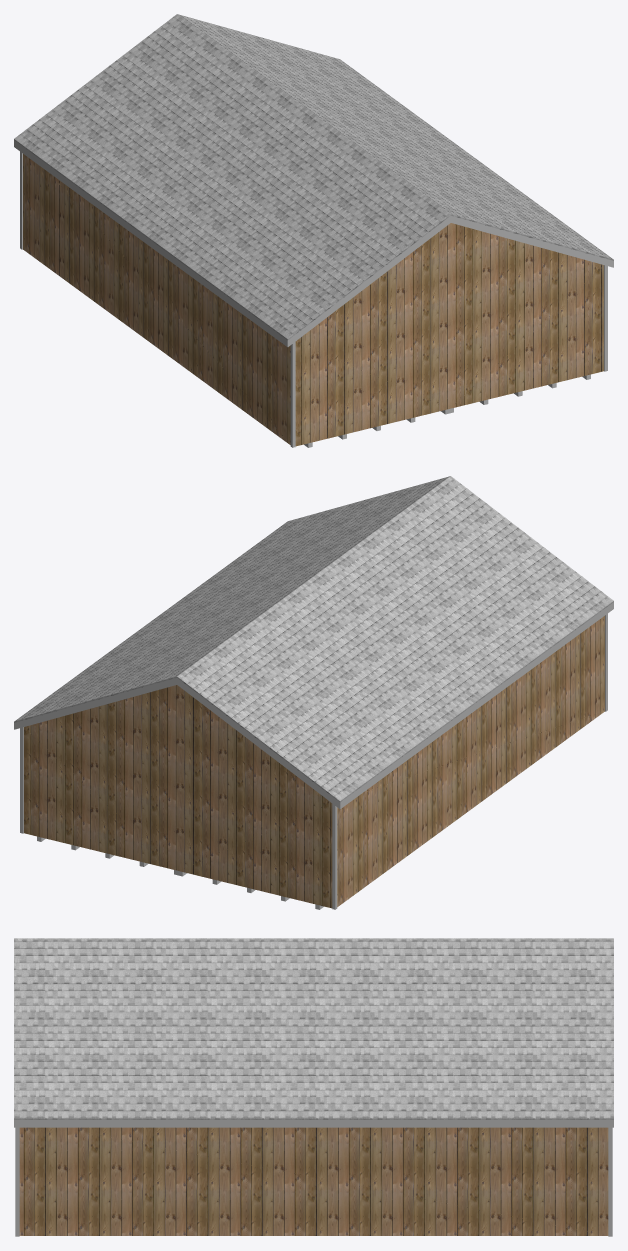
Rendered from Double Garage 6-12 PITCH ROOF_24x36.obj.
The picture shows the model from 3 angles, top to bottom: view 1: azimuth 30°, elevation 25°; view 2: azimuth 150°, elevation 25°; view 3: azimuth 270°, elevation 25°; orthographic projection. The views are drawn at different scales.
Visible parts, largest first — view 1: Roof, Shed, Sides, Trim; view 2: Roof, Shed, Sides, Trim; view 3: Roof, Shed, Sides, Trim.
Part boxes in pixels (left/top/right/bottom): Roof: left=14, top=14, right=613, bottom=340; Shed: left=23, top=154, right=603, bottom=446; Sides: left=14, top=140, right=613, bottom=347; Trim: left=20, top=151, right=607, bottom=447; Roof: left=14, top=476, right=613, bottom=802; Shed: left=24, top=616, right=604, bottom=908; Sides: left=14, top=602, right=613, bottom=809; Trim: left=20, top=613, right=607, bottom=909; Roof: left=14, top=938, right=613, bottom=1119; Shed: left=19, top=1127, right=608, bottom=1235; Sides: left=14, top=1120, right=613, bottom=1127; Trim: left=15, top=1127, right=612, bottom=1236.
Bounding box in the file's own units: 7.62 × 4.46 × 11.07.
